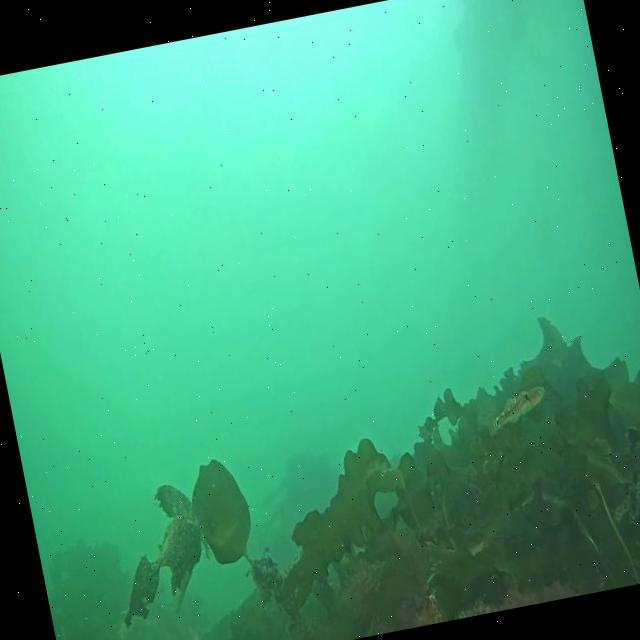fish: (482, 382, 552, 436)
